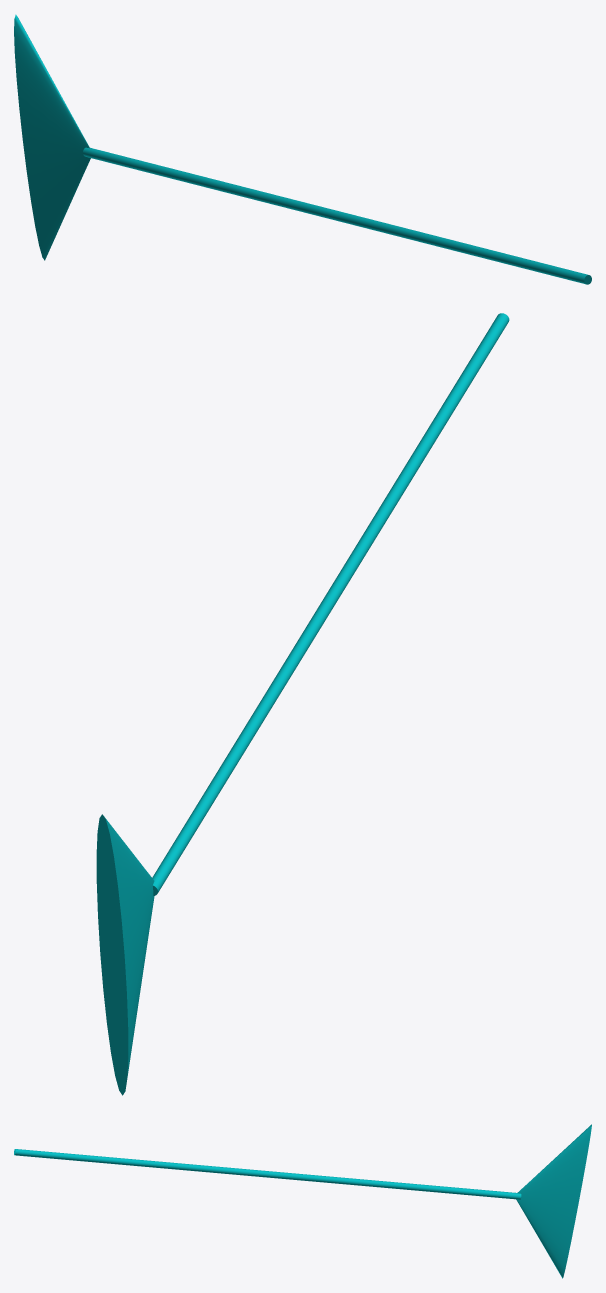
Rendered from POD.fbx.
3 renders of one model, top to bottom at view 1: azimuth 30°, elevation 25°; view 2: azimuth 150°, elevation 25°; view 3: azimuth 270°, elevation 25°, orthographic. The views are drawn at different scales.
Parts seen in each view (by area): view 1: Cone, rope; view 2: Cone, rope; view 3: Cone, rope.
Boxes of the visible parts, x1,y1,x2,y2 form: Cone: [14, 14, 90, 260]; rope: [83, 147, 591, 284]; Cone: [96, 814, 154, 1095]; rope: [152, 313, 509, 895]; Cone: [516, 1124, 591, 1278]; rope: [14, 1149, 521, 1199].
Size of the model in its own units: 168 by 887 by 289.
